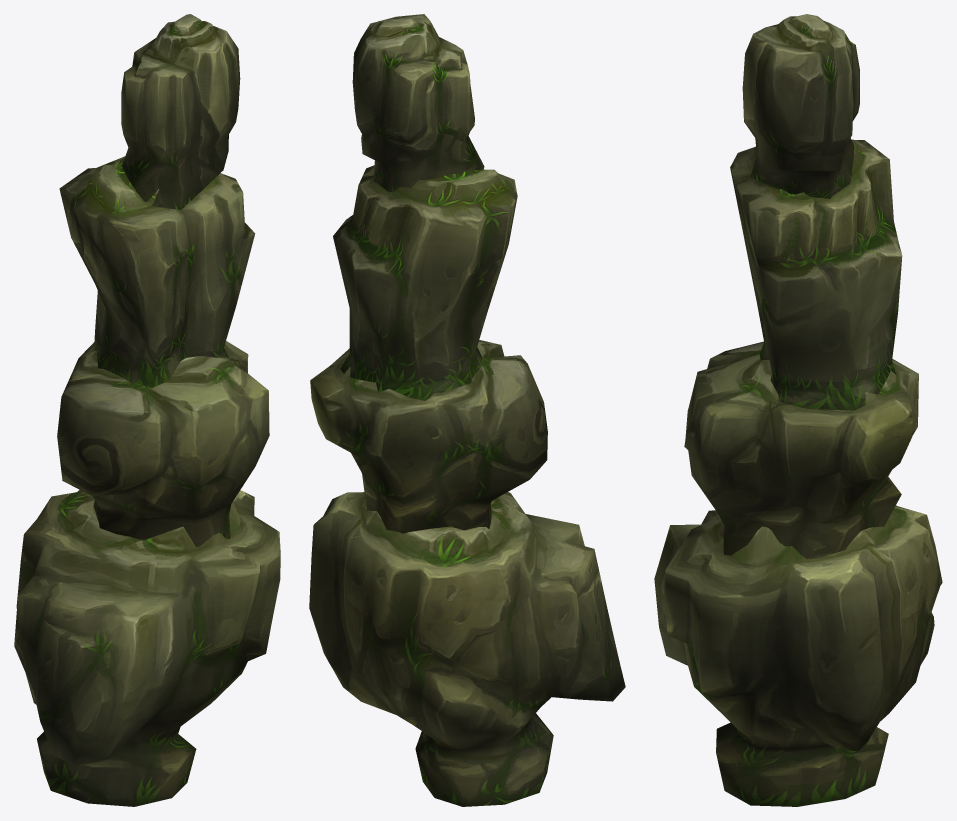
Rendered from Rock_Formation_02_13.fbx.
The picture shows the model from 3 angles, left to right: view 1: azimuth 30°, elevation 25°; view 2: azimuth 150°, elevation 25°; view 3: azimuth 270°, elevation 25°; orthographic projection. The views are drawn at different scales.
Visible parts, largest first — view 1: Rock_Formation_02_13; view 2: Rock_Formation_02_13; view 3: Rock_Formation_02_13.
Boxes of the visible parts, <box> form: Rock_Formation_02_13: <box>14,14,280,806</box>; Rock_Formation_02_13: <box>309,14,625,806</box>; Rock_Formation_02_13: <box>654,14,942,806</box>.
Bounding box in the file's own units: 217 × 625 × 204.
